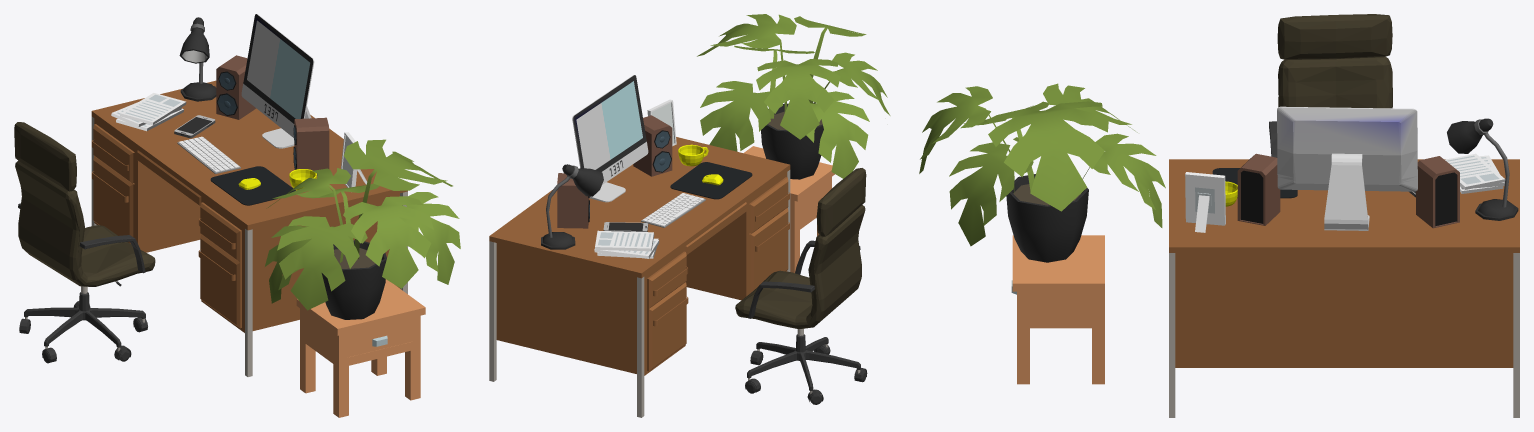
Rendered from desk.glb.
3 renders of one model, left to right at view 1: azimuth 30°, elevation 25°; view 2: azimuth 150°, elevation 25°; view 3: azimuth 270°, elevation 25°, orthographic. The views are drawn at different scales.
Parts seen in each view (by area): view 1: Node.003, Houseplant-bfLOqIV5uP, Chair.003, Cabinet Bed Drawer Tabl, screen, Monitor.001|iMac|Dupli|, Desk_Speakers_01_Cube, Mousepad, Desk_Speakers_01_Cube.001, Paper, Light Desk.001, Phone (+1 smaller); view 2: Node.003, Houseplant-bfLOqIV5uP, Chair.003, screen, Cabinet Bed Drawer Tabl, Monitor.001|iMac|Dupli|, Mousepad, Light Desk.001, Desk_Speakers_01_Cube, Paper, Desk_Speakers_01_Cube.001, Blank Picture Frame|Node.007|Dupli| (+2 smaller); view 3: Node.003, Houseplant-bfLOqIV5uP, Monitor.001|iMac|Dupli|, Chair.003, Cabinet Bed Drawer Tabl, Desk_Speakers_01_Cube.001, Desk_Speakers_01_Cube, Light Desk.001, Blank Picture Frame|Node.007|Dupli|, Paper.
Boxes of the visible parts, x1,y1,x2,y2 form: Node.003: [91, 80, 407, 376]; Houseplant-bfLOqIV5uP: [265, 139, 460, 319]; Chair.003: [14, 122, 155, 363]; Cabinet Bed Drawer Tabl: [296, 279, 425, 417]; screen: [247, 20, 310, 118]; Monitor.001|iMac|Dupli|: [241, 14, 314, 148]; Desk_Speakers_01_Cube: [293, 117, 329, 175]; Mousepad: [210, 166, 295, 205]; Desk_Speakers_01_Cube.001: [216, 55, 256, 119]; Paper: [111, 93, 186, 131]; Light Desk.001: [179, 17, 216, 101]; Phone: [174, 115, 215, 138]; Node.003: [489, 137, 790, 417]; Houseplant-bfLOqIV5uP: [697, 14, 890, 179]; Chair.003: [735, 168, 867, 404]; screen: [576, 81, 642, 169]; Cabinet Bed Drawer Tabl: [743, 146, 834, 272]; Monitor.001|iMac|Dupli|: [572, 75, 648, 202]; Mousepad: [670, 162, 752, 199]; Light Desk.001: [541, 164, 603, 249]; Desk_Speakers_01_Cube: [633, 115, 672, 176]; Paper: [594, 230, 659, 258]; Desk_Speakers_01_Cube.001: [557, 173, 589, 228]; Blank Picture Frame|Node.007|Dupli|: [647, 99, 676, 146]; Node.003: [1169, 159, 1519, 417]; Houseplant-bfLOqIV5uP: [919, 83, 1165, 262]; Monitor.001|iMac|Dupli|: [1277, 106, 1417, 230]; Chair.003: [1269, 14, 1392, 157]; Cabinet Bed Drawer Tabl: [1011, 235, 1104, 384]; Desk_Speakers_01_Cube.001: [1416, 156, 1459, 228]; Desk_Speakers_01_Cube: [1237, 153, 1280, 225]; Light Desk.001: [1447, 118, 1518, 220]; Blank Picture Frame|Node.007|Dupli|: [1185, 172, 1225, 232]; Paper: [1445, 153, 1505, 193].
Size of the model in its own units: 1.93 by 1.56 by 2.97.
Materials: 40 (5 with a texture image).
